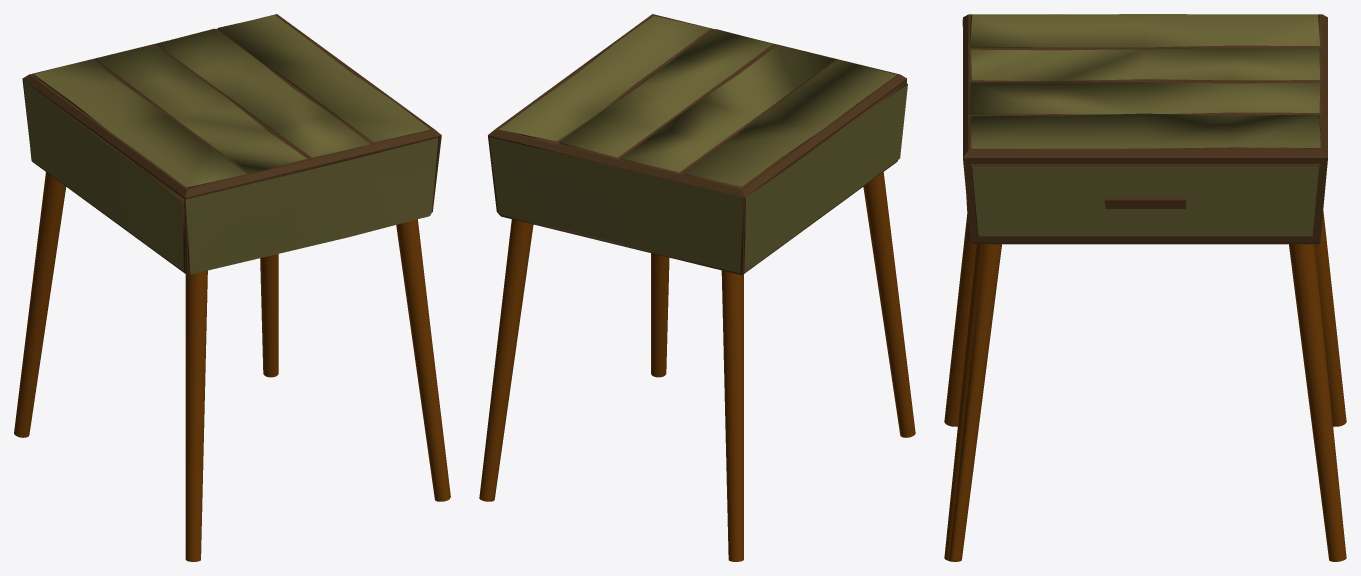
File: Table.fbx
3 renders of one model, left to right at view 1: azimuth 30°, elevation 25°; view 2: azimuth 150°, elevation 25°; view 3: azimuth 270°, elevation 25°, orthographic. The views are drawn at different scales.
Parts seen in each view (by area): view 1: SimpleDesk; view 2: SimpleDesk; view 3: SimpleDesk.
Boxes of the visible parts, x1,y1,x2,y2 form: SimpleDesk: (14,14,450,561); SimpleDesk: (479,14,915,561); SimpleDesk: (944,14,1346,561).
Bounding box in the file's own units: 171 × 227 × 201.
